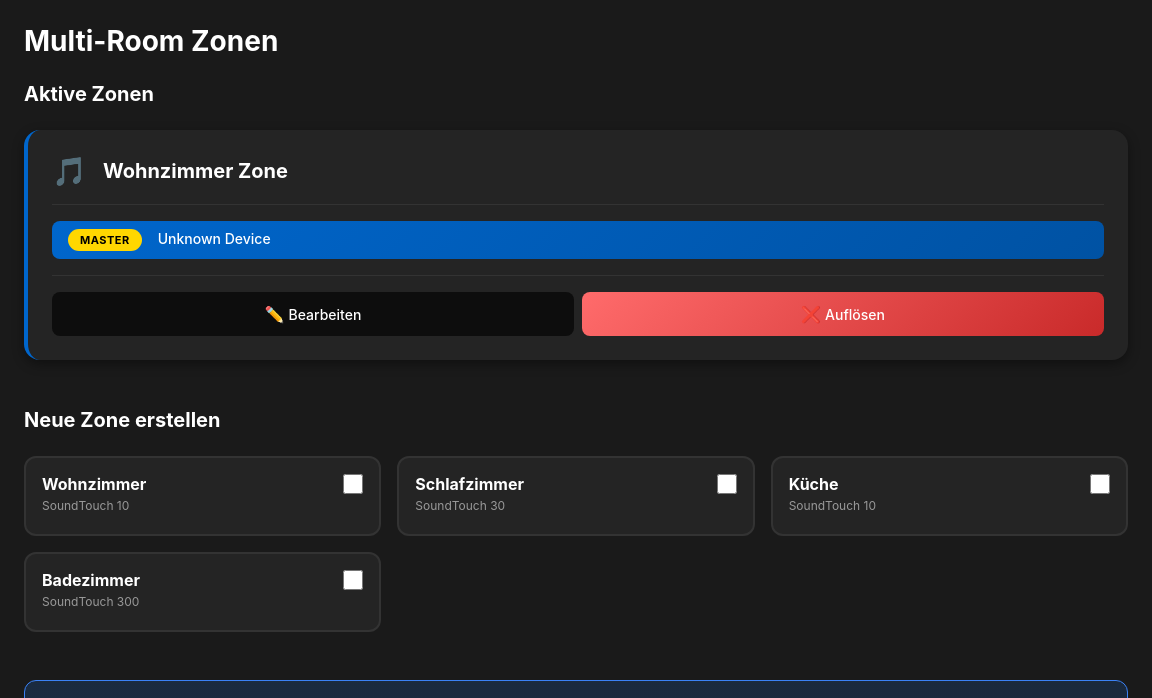
MultiRoom - Zone Management › should dissolve zone when dissolve button clicked
The width and height of the screenshot is (1152, 698).
// Dissolve zone
Step 1. Click the button "❌ Auflösen" → (843, 314), box x1=582 y1=292 x2=1104 y2=336
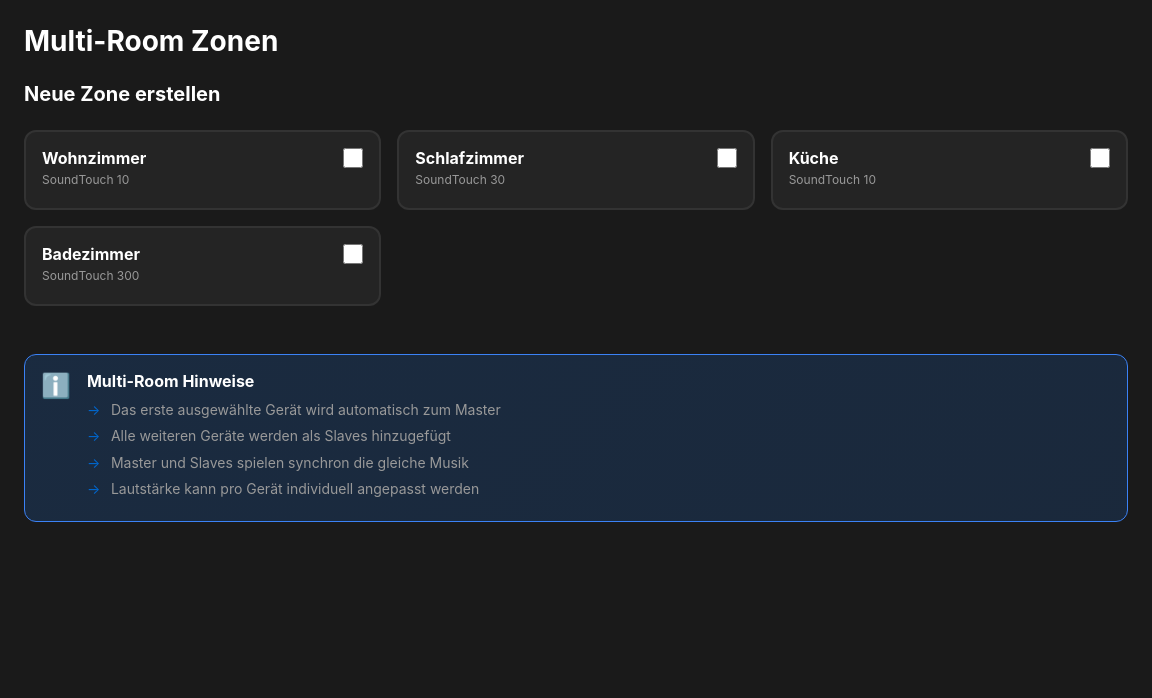
Expected: the heading "Wohnzimmer Zone" is gone
